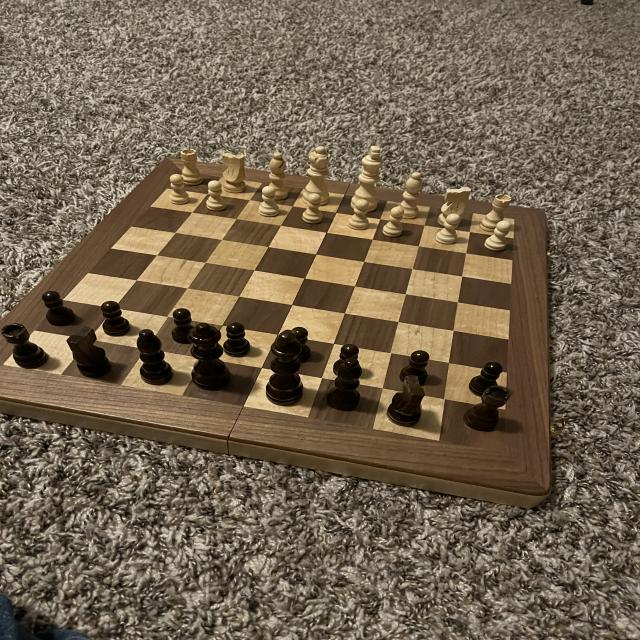bishop: (132, 328, 177, 388), (327, 354, 368, 415)
black-bishop: (262, 326, 312, 411)
black-king: (64, 326, 120, 382), (386, 372, 426, 431)
black-knight: (396, 346, 435, 390), (466, 358, 508, 398), (39, 288, 82, 327), (99, 296, 135, 338), (329, 339, 365, 381), (166, 305, 203, 345), (282, 321, 316, 363), (224, 316, 254, 362)
black-pawn: (185, 320, 235, 392)
black-queen: (460, 383, 512, 435), (1, 321, 48, 370)
black-rook: (260, 149, 296, 203), (394, 169, 427, 220)
white-bishop: (349, 144, 388, 217)
white-king: (216, 152, 257, 196), (438, 184, 473, 228)
white-knight: (485, 218, 516, 252), (302, 190, 328, 227), (346, 198, 374, 232), (380, 206, 408, 240), (205, 177, 230, 214), (435, 213, 463, 246), (168, 172, 195, 205), (254, 185, 281, 217)
white-pawn: (299, 141, 338, 206)
white-queen: (479, 193, 516, 235), (177, 147, 204, 188)
